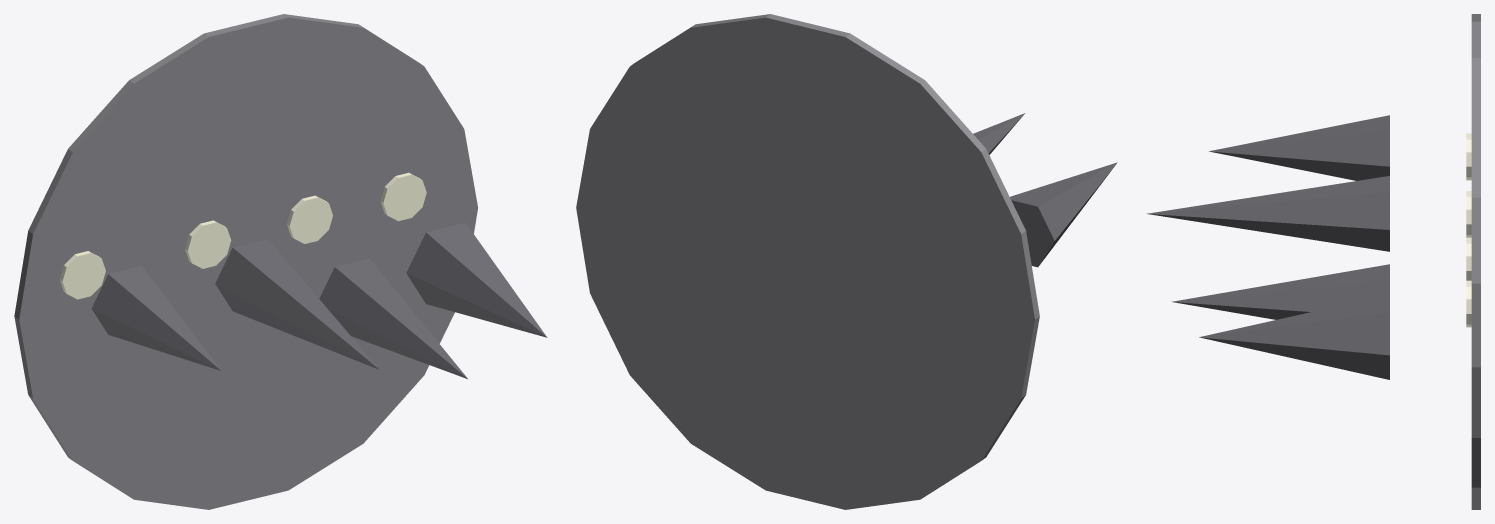
File: 02_local_prop_cluster.glb
The picture shows the model from 3 angles, left to right: view 1: azimuth 30°, elevation 25°; view 2: azimuth 150°, elevation 25°; view 3: azimuth 270°, elevation 25°; orthographic projection. The views are drawn at different scales.
Visible parts, largest first — view 1: scatter_base, basalt_shard_1, basalt_shard_3, basalt_shard_2, basalt_shard_0, lava_glow_3, lava_glow_2, lava_glow_0, lava_glow_1; view 2: scatter_base, basalt_shard_0, basalt_shard_1; view 3: basalt_shard_1, basalt_shard_3, basalt_shard_0, basalt_shard_2, scatter_base.
Boxes of the visible parts, x1,y1,x2,y2 form: scatter_base: [14, 14, 477, 509]; basalt_shard_1: [215, 239, 379, 369]; basalt_shard_3: [406, 223, 547, 337]; basalt_shard_2: [319, 258, 467, 378]; basalt_shard_0: [91, 266, 221, 370]; lava_glow_3: [380, 172, 426, 221]; lava_glow_2: [287, 195, 332, 243]; lava_glow_0: [60, 251, 105, 299]; lava_glow_1: [185, 220, 231, 268]; scatter_base: [576, 14, 1039, 509]; basalt_shard_0: [1010, 162, 1117, 267]; basalt_shard_1: [973, 113, 1024, 154]; basalt_shard_1: [1146, 176, 1389, 251]; basalt_shard_3: [1199, 294, 1389, 379]; basalt_shard_0: [1209, 115, 1389, 180]; basalt_shard_2: [1171, 264, 1389, 319]; scatter_base: [1471, 14, 1480, 509].
Bounding box in the file's own units: 1.9 × 1.87 × 1.28.
